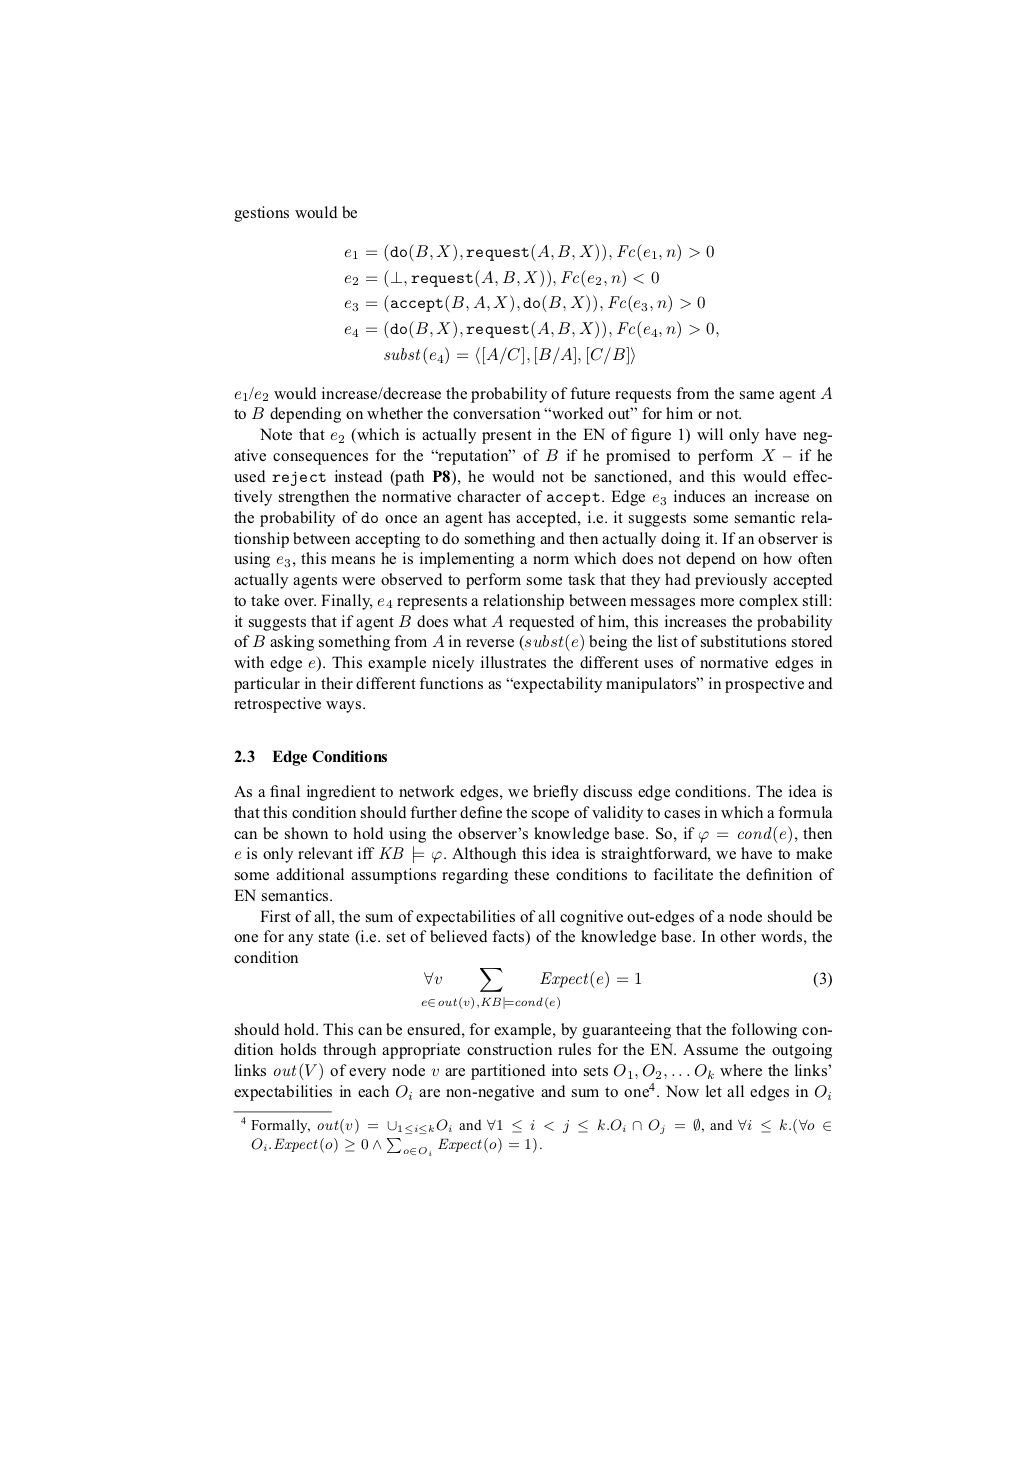formula: (421, 968, 831, 1008), (344, 320, 717, 339), (344, 243, 713, 262), (344, 294, 704, 313), (344, 269, 658, 288), (384, 345, 634, 365)
